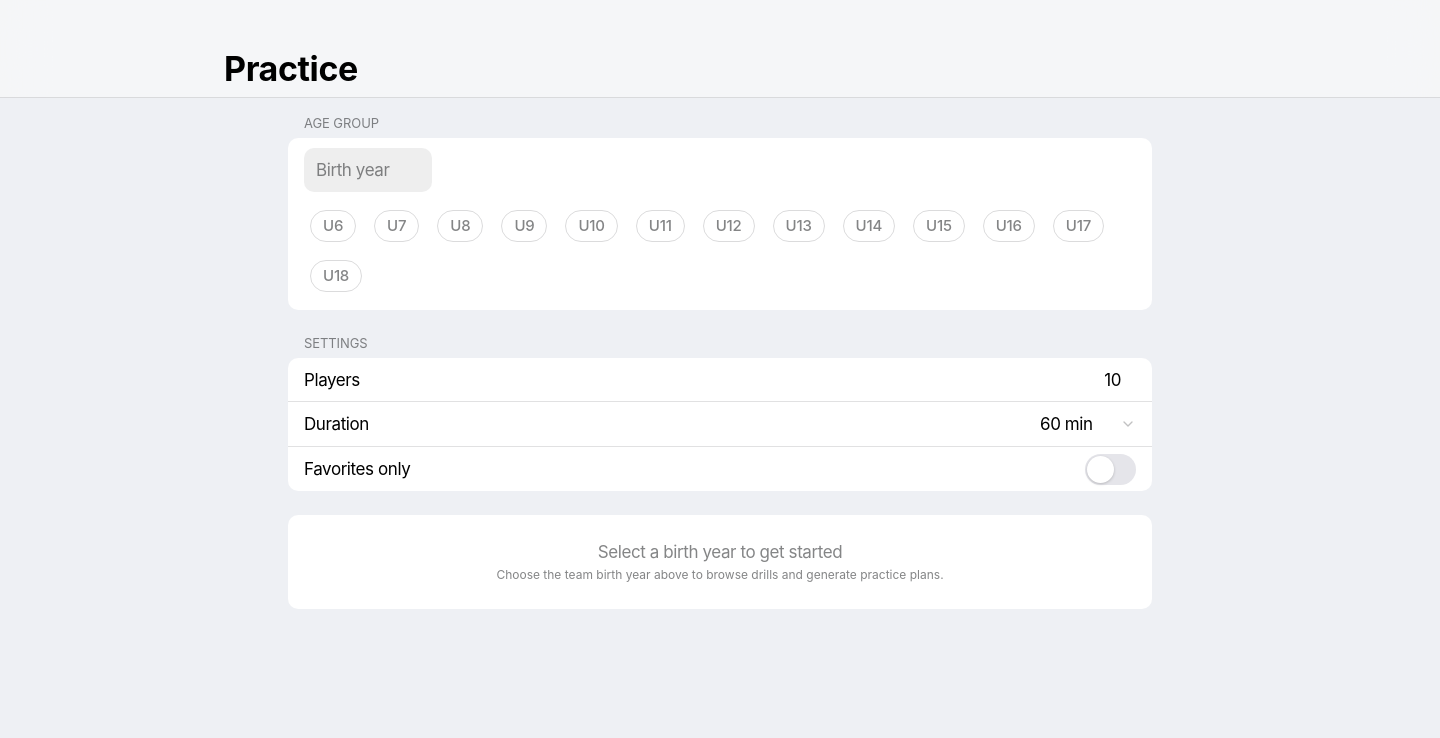
Test: Practice page › toggles a category off when clicked again
Click the button "U10" at [592, 226], box [560,204,624,248]
(page scrolled)
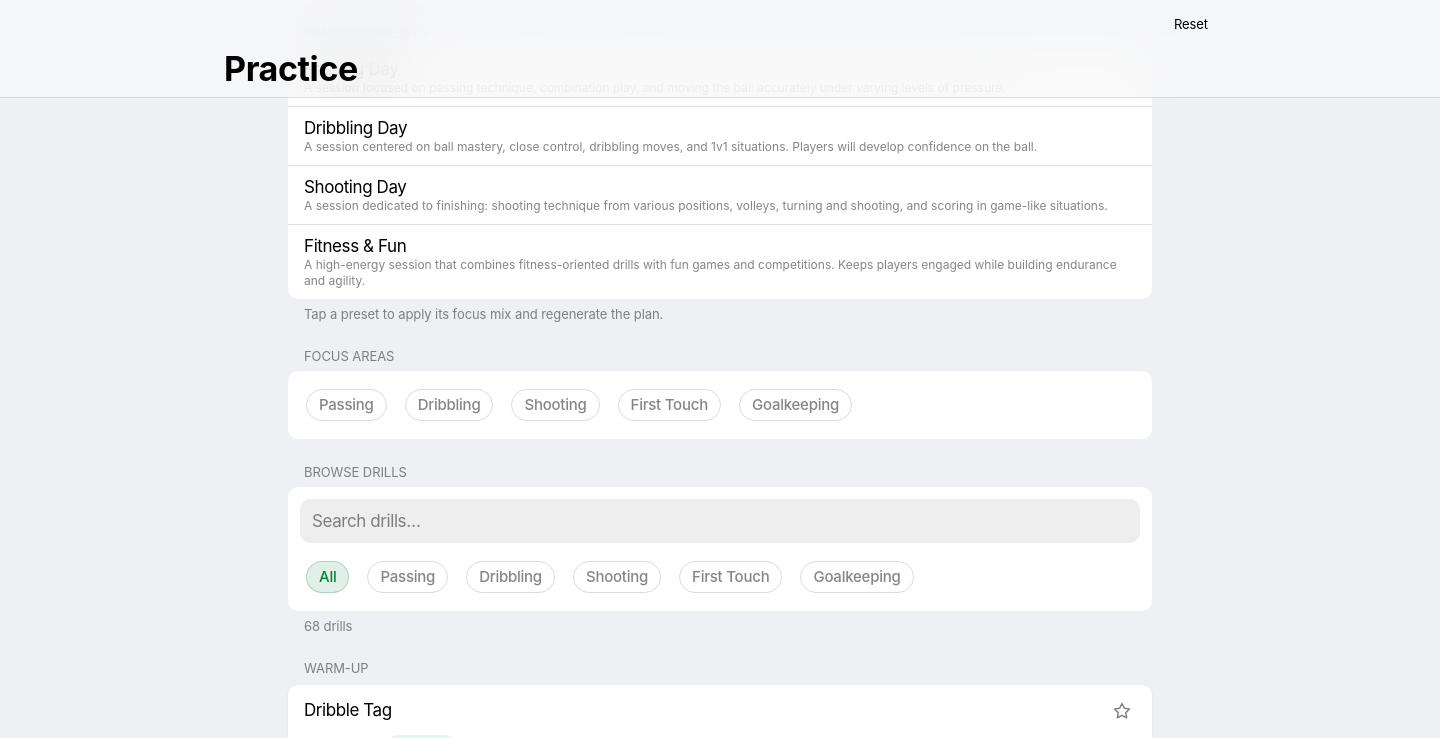
Select passing
Click the button "Passing" below "Focus Areas" at [346, 405], box [300,383,393,427]
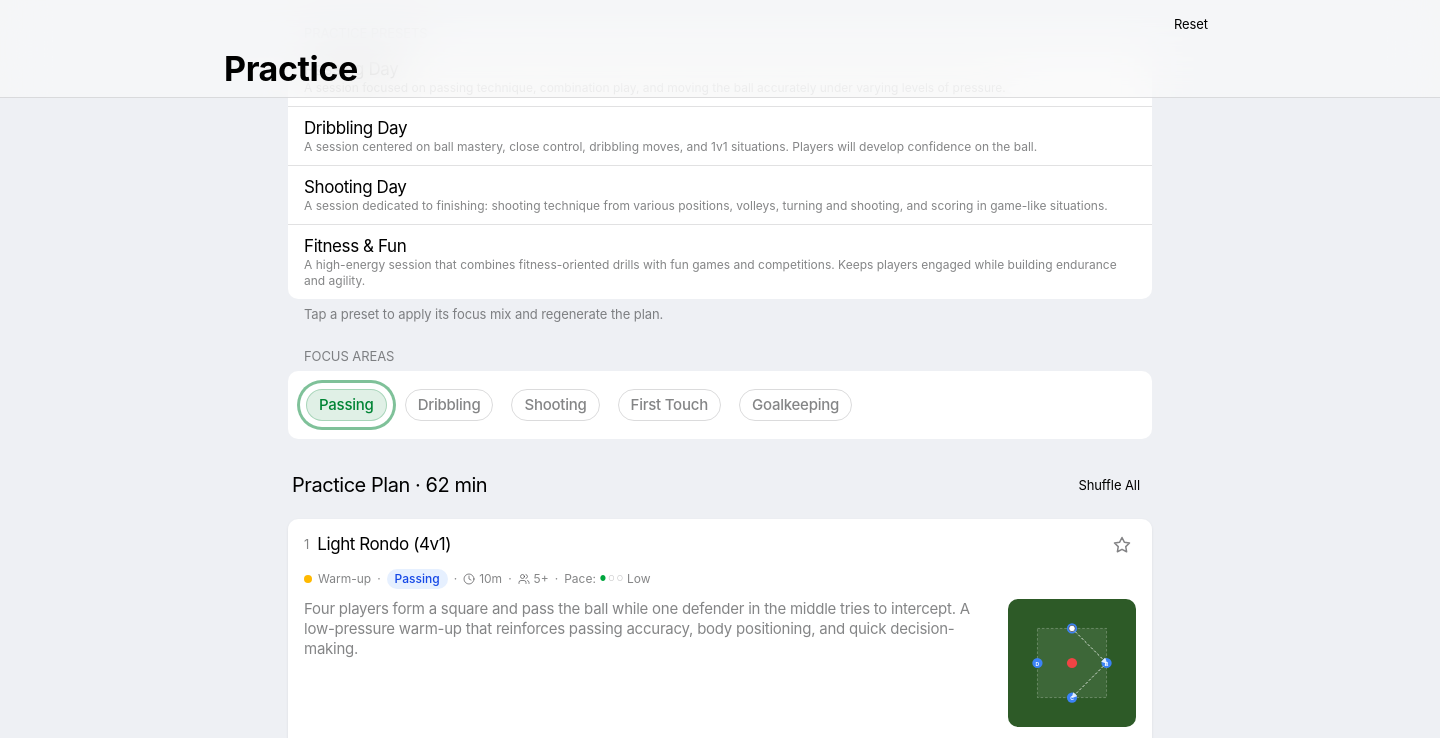
Check: the heading "Practice Plan · 62 min" is shown, box [292,472,487,498]
Click the button "Passing" at [346, 405], box [300,383,393,427]
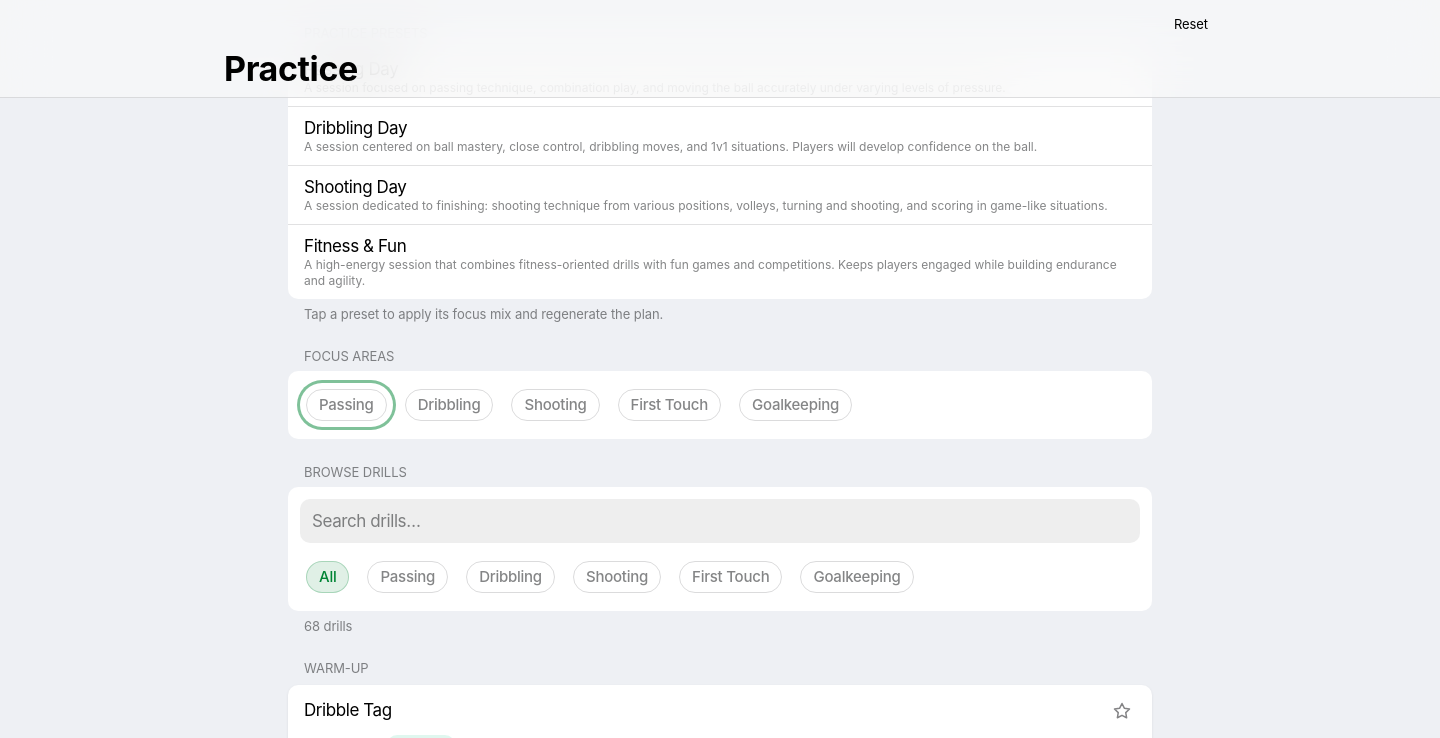
Check: the heading "Practice Plan" is gone
